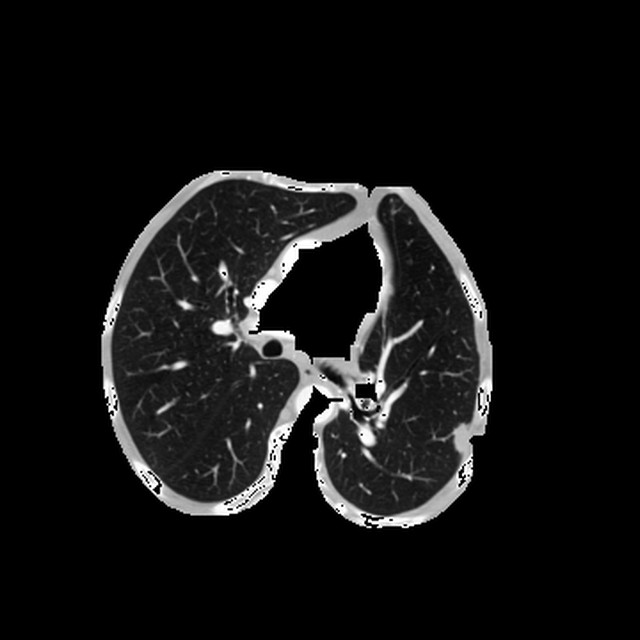PN: (450, 427, 471, 448)
